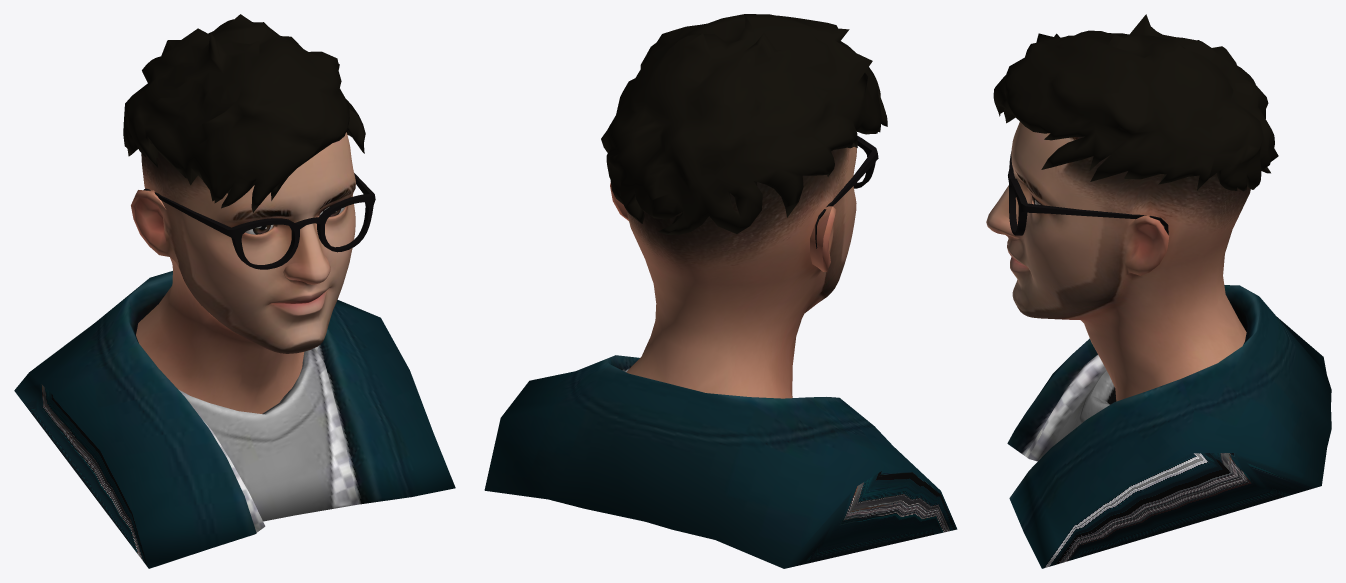
File: TutoFinal.fbx
3 views of the same model, side by side, from view 1: azimuth 30°, elevation 25°; view 2: azimuth 150°, elevation 25°; view 3: azimuth 270°, elevation 25° (orthographic). The views are drawn at different scales.
Visible parts, largest first — view 1: Wolf3D_Outfit_Top, Wolf3D_Head, Wolf3D_Hair, Wolf3D_Glasses; view 2: Wolf3D_Outfit_Top, Wolf3D_Hair, Wolf3D_Head, Wolf3D_Glasses; view 3: Wolf3D_Outfit_Top, Wolf3D_Head, Wolf3D_Hair, Wolf3D_Glasses.
Boxes of the visible parts, x1,y1,x2,y2 form: Wolf3D_Outfit_Top: (14, 271, 455, 568); Wolf3D_Head: (131, 132, 355, 413); Wolf3D_Hair: (123, 14, 365, 212); Wolf3D_Glasses: (143, 173, 375, 269); Wolf3D_Outfit_Top: (484, 355, 957, 568); Wolf3D_Hair: (601, 14, 887, 234); Wolf3D_Head: (610, 147, 856, 398); Wolf3D_Glasses: (815, 136, 878, 248); Wolf3D_Outfit_Top: (1007, 285, 1331, 568); Wolf3D_Head: (986, 122, 1250, 401); Wolf3D_Hair: (993, 14, 1278, 191); Wolf3D_Glasses: (1008, 151, 1168, 235).
Size of the model in its own units: 29.74 by 40.62 by 27.48.
Materials: 6 (5 with a texture image).
